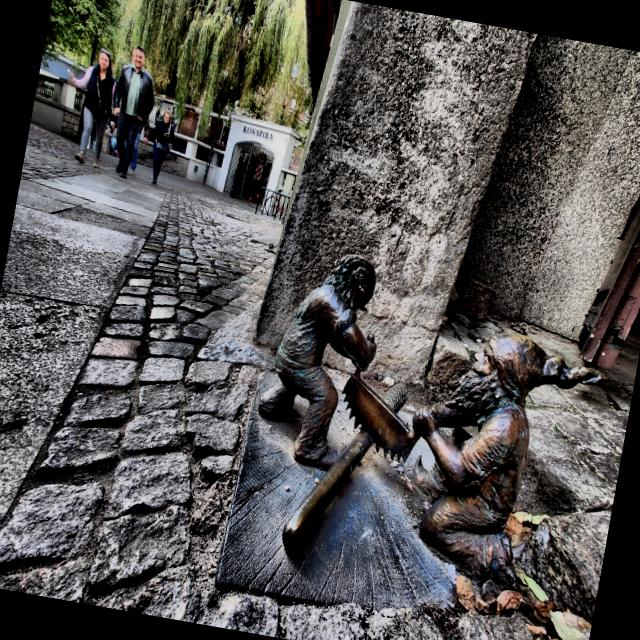Wyrostek i Zadymek: (258, 254, 599, 588)
